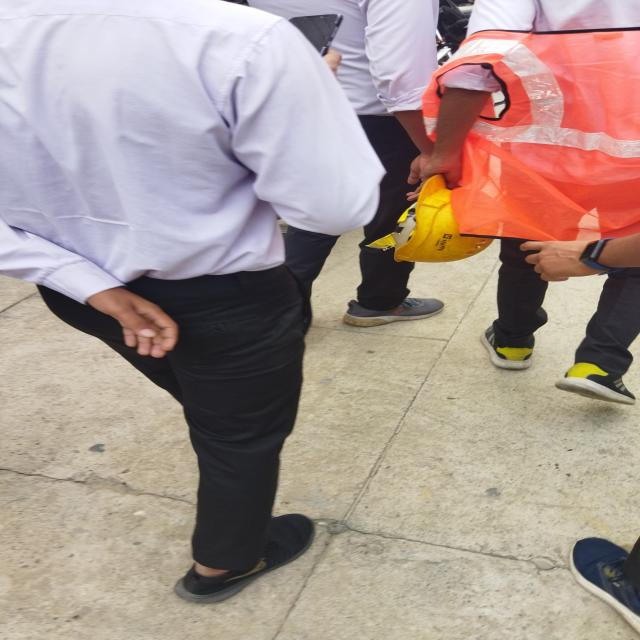unsafe: (7, 4, 384, 610), (439, 0, 640, 390)
